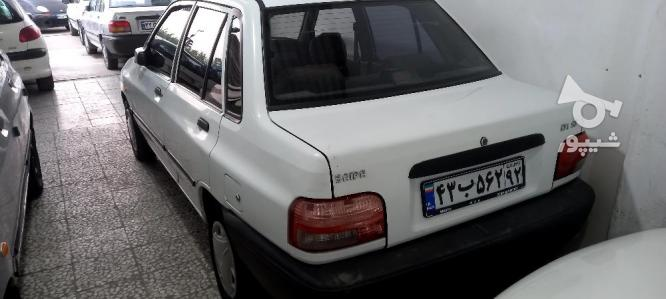car: (421, 152, 528, 218), (137, 18, 156, 31)
